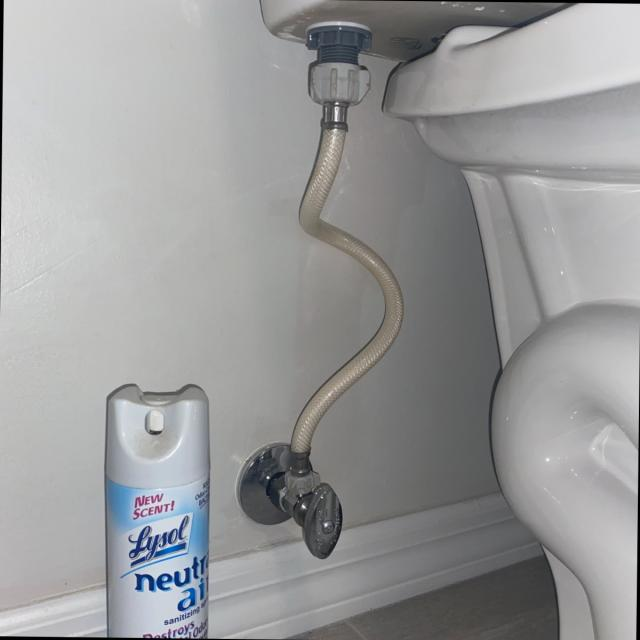good_coupler: (303, 58, 373, 104)
good_line: (281, 109, 403, 470)
good_valve: (264, 476, 352, 549)
